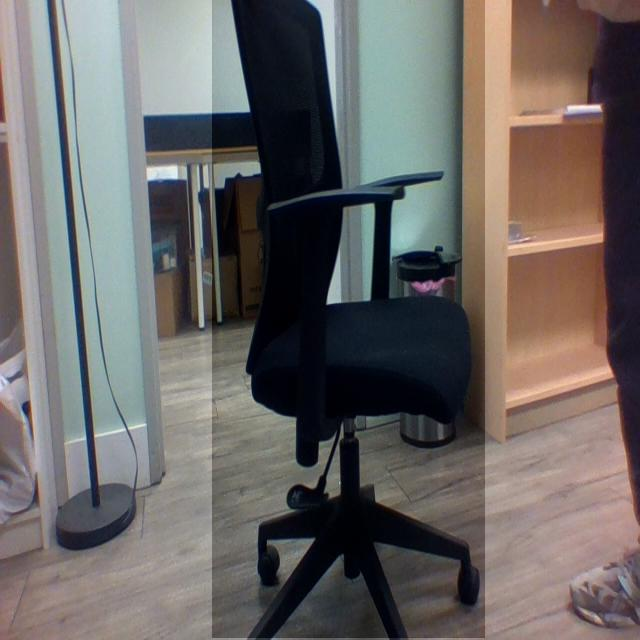black-chair: (213, 0, 487, 639)
